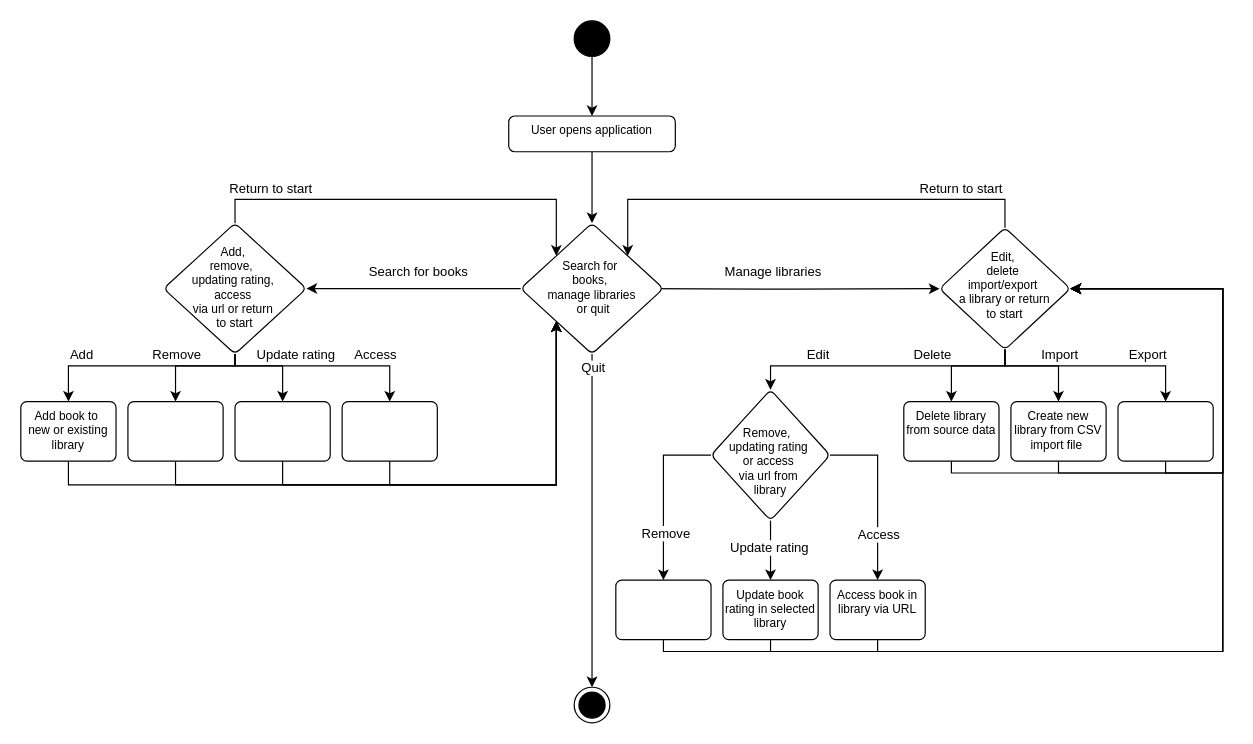
This 1253x744 diagram has some shape labels left out. Each missing label, with the centre of its shape:
"Access via URL" belongs at pixel 389 430.
"Export library to CSV file" belongs at pixel 1165 430.
"Remove book from existing library" belongs at pixel 175 430.
"Remove book from selected library" belongs at pixel 663 609.
"Update book rating" belongs at pixel 282 430.
